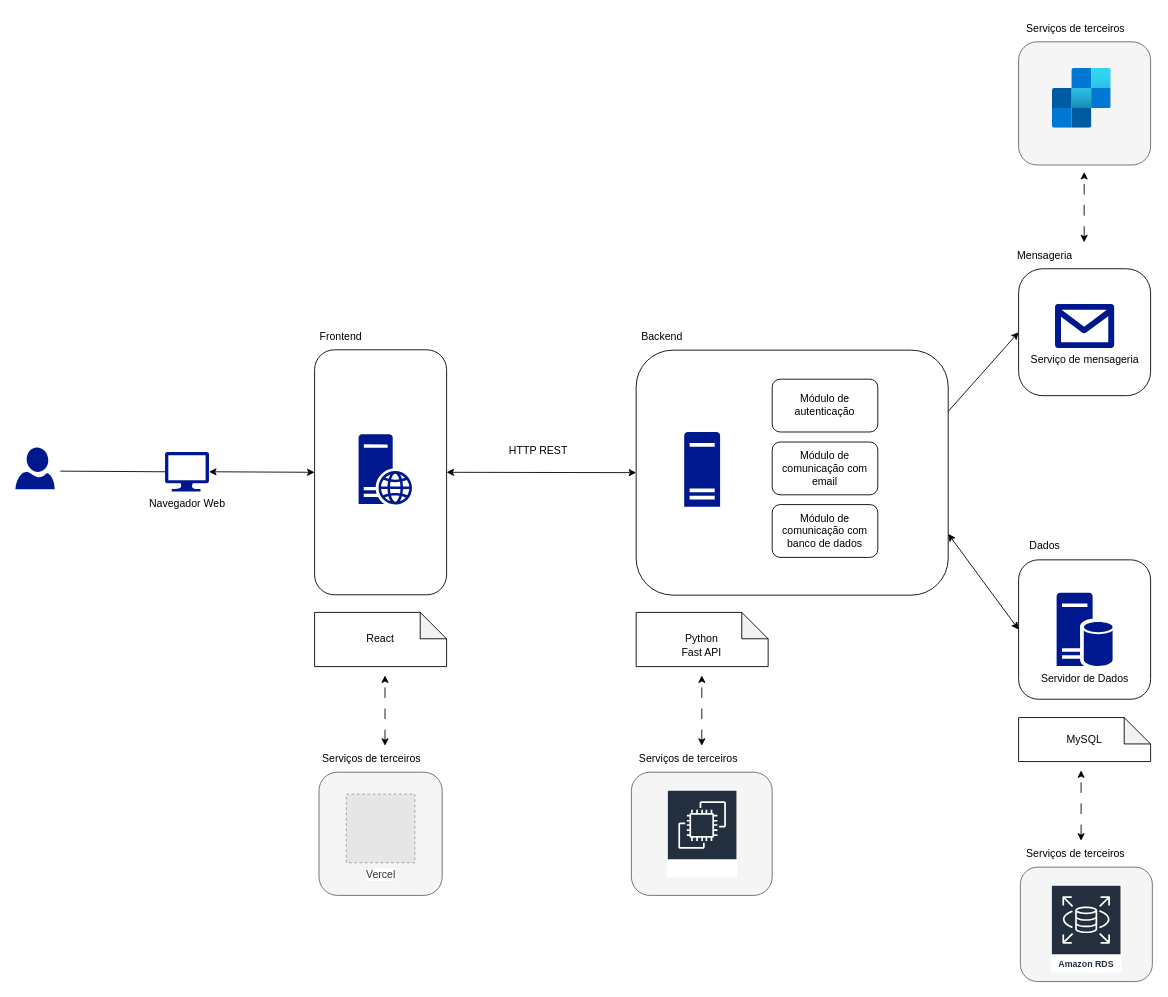
Some shapes in this 1168 by 997 pixel diagram are drawn without their labels. Grey dashed boxes stand in for pictures. The shapes that lost their labels are listed below. From the top down, each one's box as (x1, y1, x2, y2) in pixels, then its label:
(1052, 68, 1111, 128): Send Grid
(15, 447, 54, 489): Usuário
(358, 434, 412, 504): Servidor web
(684, 432, 720, 506): Servidor deAplicação
(666, 789, 737, 878): Amazon EC2
